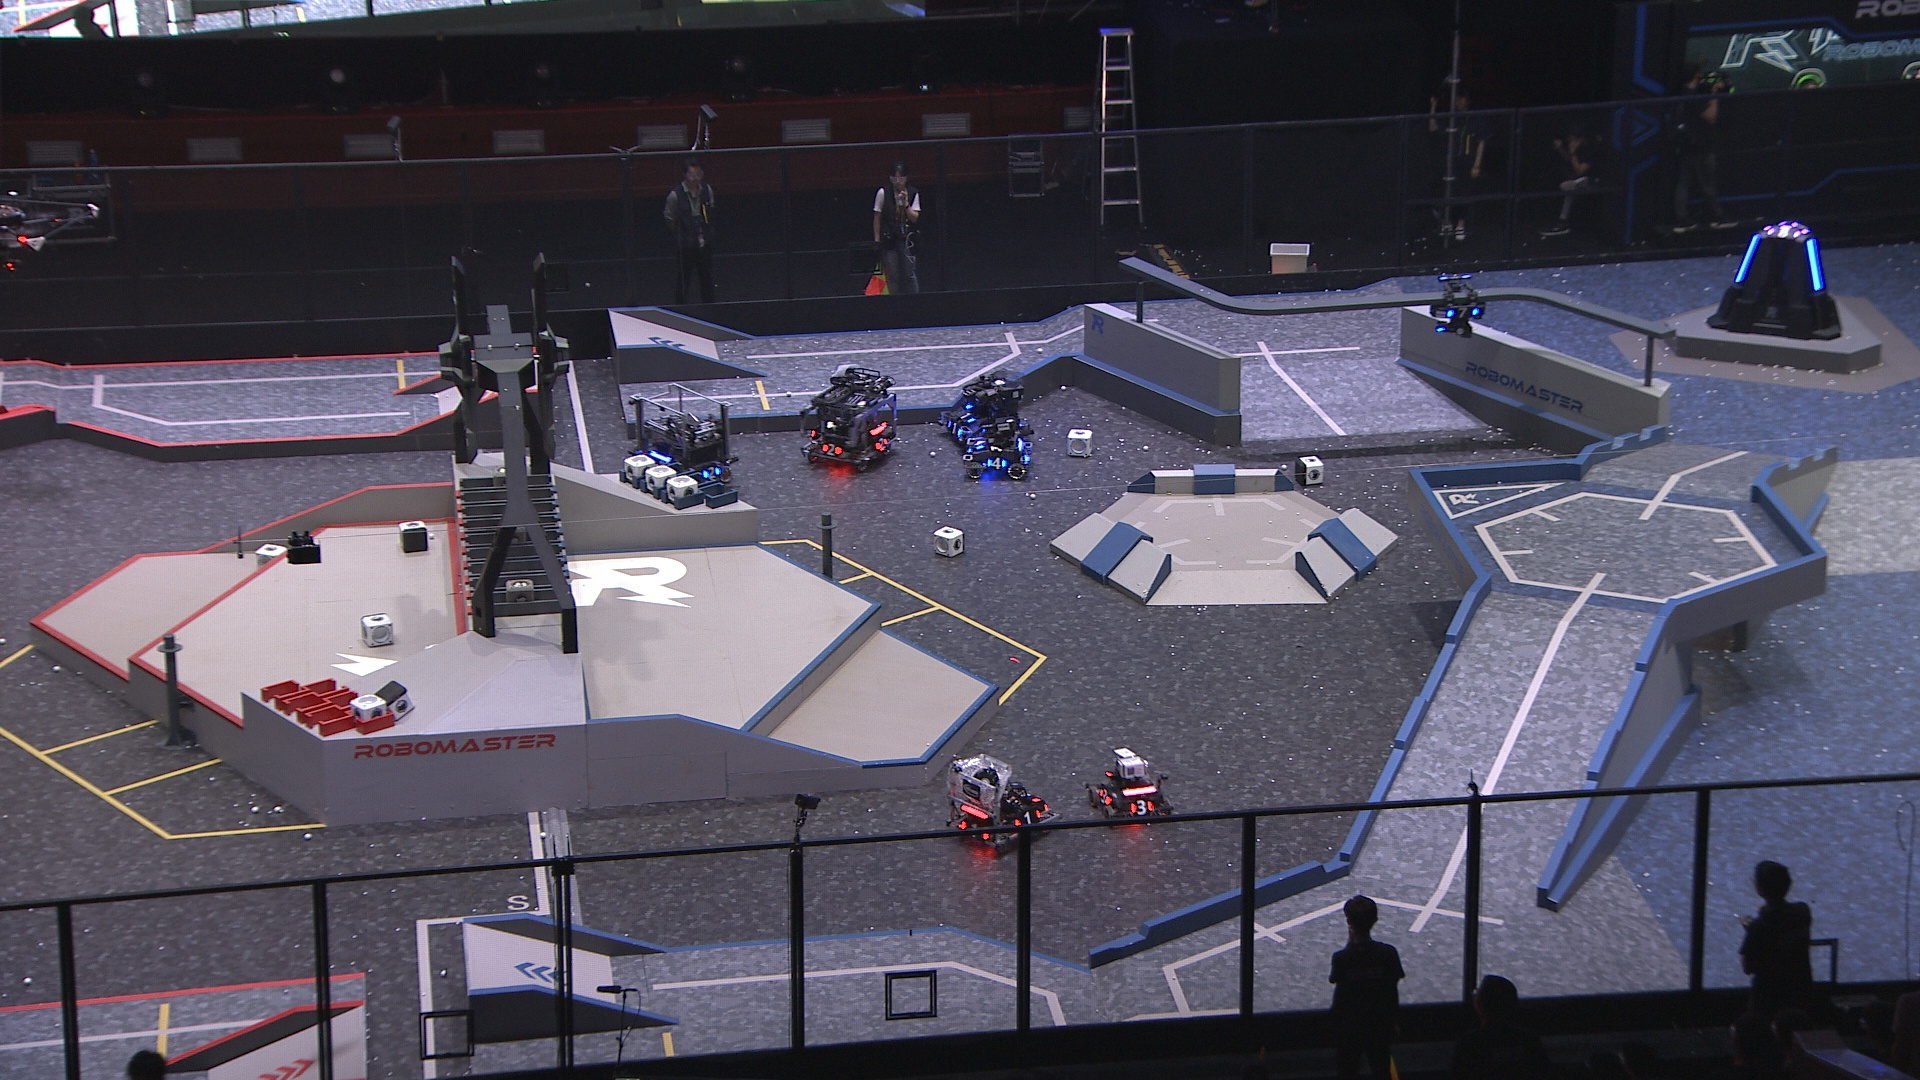armor: (1733, 233, 1756, 285), (1807, 239, 1822, 291), (957, 820, 992, 844), (1443, 305, 1482, 320), (1013, 808, 1040, 828), (1126, 798, 1153, 818), (1095, 785, 1112, 808), (818, 442, 843, 458), (699, 465, 723, 481), (955, 409, 977, 425), (984, 456, 1006, 471), (945, 419, 963, 438), (873, 436, 889, 455), (975, 436, 986, 454)
base: (1702, 220, 1845, 342)
car: (629, 382, 736, 493), (942, 756, 1059, 855), (798, 367, 899, 471), (1083, 745, 1176, 827), (938, 373, 1034, 448), (960, 419, 1031, 480)
ignore: (1766, 224, 1803, 239)
watcher: (1428, 273, 1486, 335)
